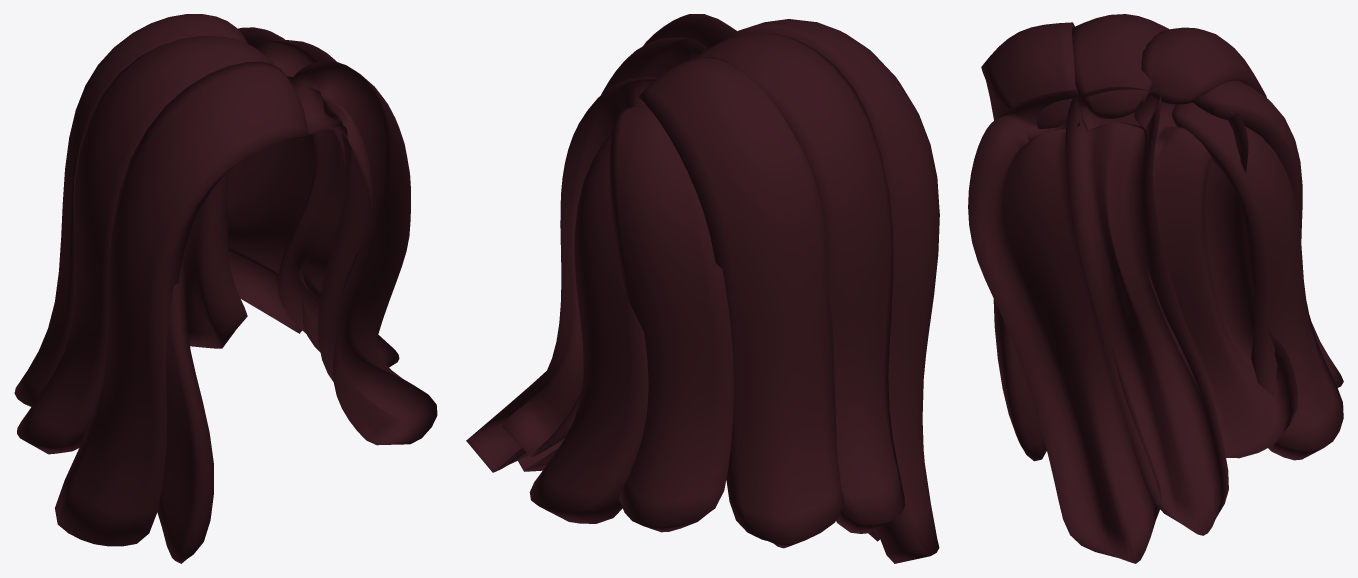
File: head2.glb
3 views of the same model, side by side, from view 1: azimuth 30°, elevation 25°; view 2: azimuth 150°, elevation 25°; view 3: azimuth 270°, elevation 25° (orthographic). The views are drawn at different scales.
Parts seen in each view (by area): view 1: Head2_HairBand01, Head2_HairBand09, Head2_HairBand02, Head2_HairBand04, Head2_HairBand03, Head2_HairBand05, Head2_HairBand06, Head2_HairBand08; view 2: Head2_HairBand06, Head2_HairBand07, Head2_HairBand02, Head2_HairBand01, Head2_HairBand08, Head2_HairBand04, Head2_HairBand03, Head2_HairBand09; view 3: Head2_HairBand09, Head2_HairBand03, Head2_HairBand04, Head2_HairBand08, Head2_HairBand02, Head2_HairBand01, Head2_HairBand06, Head2_HairBand07, Head2_HairBand05.
Boxes of the visible parts, box(x1,y1,x2,y2) form: Head2_HairBand01: box(55, 61, 308, 546); Head2_HairBand09: box(291, 61, 437, 445); Head2_HairBand02: box(17, 36, 274, 454); Head2_HairBand04: box(226, 27, 343, 333); Head2_HairBand03: box(251, 40, 399, 367); Head2_HairBand05: box(157, 250, 213, 563); Head2_HairBand06: box(14, 14, 247, 406); Head2_HairBand08: box(184, 172, 247, 348); Head2_HairBand06: box(638, 56, 844, 548); Head2_HairBand07: box(609, 104, 733, 532); Head2_HairBand02: box(693, 32, 904, 533); Head2_HairBand01: box(726, 19, 939, 563); Head2_HairBand08: box(529, 132, 648, 523); Head2_HairBand04: box(502, 77, 658, 456); Head2_HairBand03: box(466, 37, 707, 472); Head2_HairBand09: box(518, 14, 736, 471); Head2_HairBand09: box(968, 89, 1161, 563); Head2_HairBand03: box(1065, 86, 1228, 535); Head2_HairBand04: box(1134, 93, 1297, 458); Head2_HairBand08: box(1172, 102, 1343, 460); Head2_HairBand02: box(1072, 14, 1168, 118); Head2_HairBand01: box(981, 22, 1079, 128); Head2_HairBand06: box(1141, 27, 1266, 104); Head2_HairBand07: box(1192, 80, 1343, 387); Head2_HairBand05: box(993, 299, 1046, 461).
Bounding box in the file's own units: 71.63 × 83.46 × 60.61.
